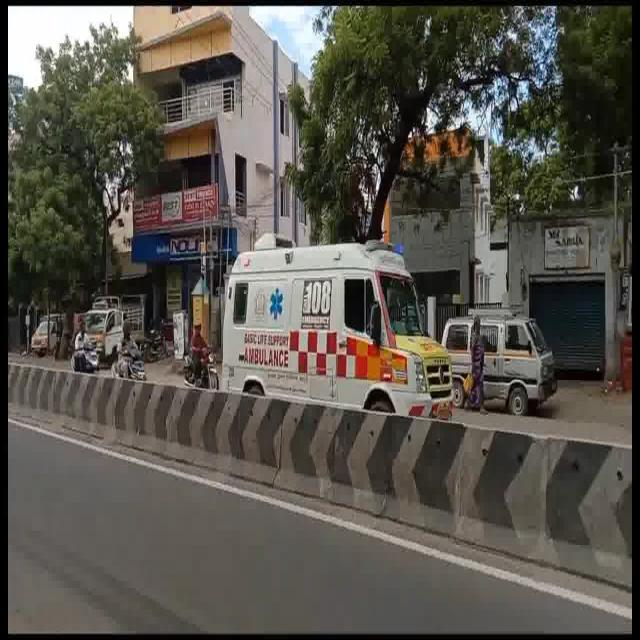ambulance: (218, 230, 451, 425)
